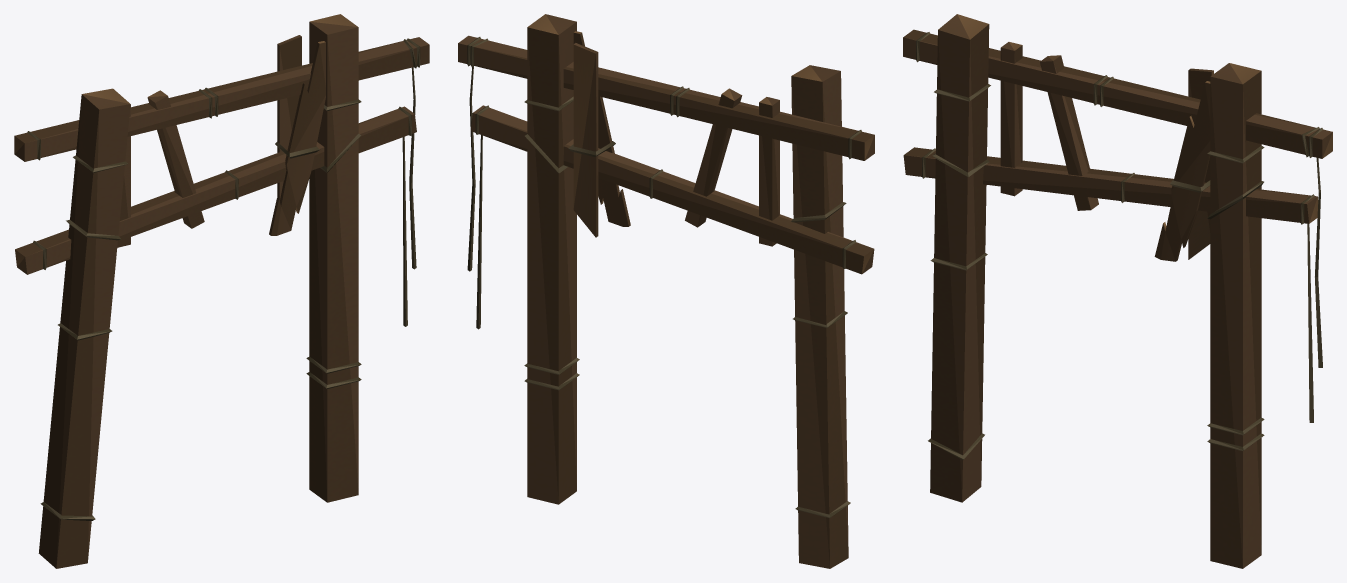
File: Wood_9A_Lod0.fbx
3 renders of one model, left to right at view 1: azimuth 30°, elevation 25°; view 2: azimuth 150°, elevation 25°; view 3: azimuth 330°, elevation 25°, orthographic. The views are drawn at different scales.
Visible parts, largest first — view 1: polySurface1101; view 2: polySurface1101; view 3: polySurface1101.
Part boxes in pixels (x1,y1,x2,y2): polySurface1101: (14, 14, 429, 568); polySurface1101: (458, 14, 874, 568); polySurface1101: (903, 14, 1332, 568).
Bounding box in the file's own units: 905 × 1005 × 144.
Materials: 1 (1 with a texture image).
